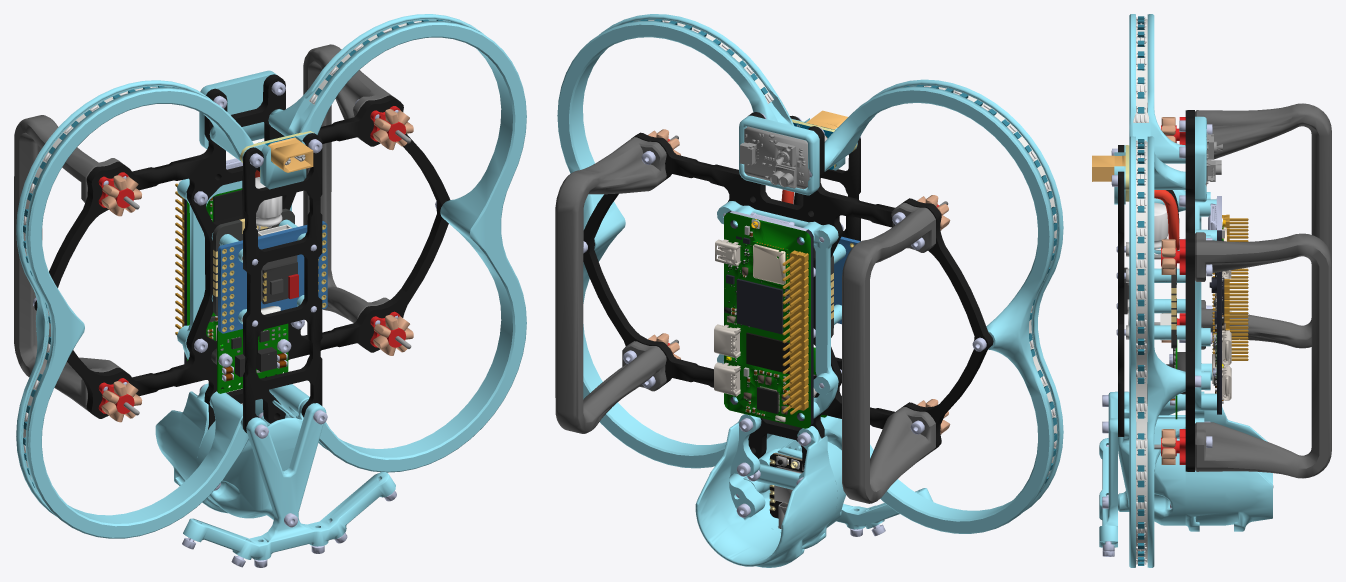
File: obrik_three_rangefinders_30_clean.obj
3 renders of one model, left to right at view 1: azimuth 30°, elevation 25°; view 2: azimuth 150°, elevation 25°; view 3: azimuth 270°, elevation 25°, orthographic. The views are drawn at different scales.
Parts seen in each view (by area): view 1: obrik_three_rangefinders_30_clean; view 2: obrik_three_rangefinders_30_clean; view 3: obrik_three_rangefinders_30_clean.
Part boxes in pixels (x1,y1,x2,y2): obrik_three_rangefinders_30_clean: (14,14,526,567); obrik_three_rangefinders_30_clean: (555,14,1063,567); obrik_three_rangefinders_30_clean: (1092,14,1331,567).
Size of the model in its own units: 0.1699 by 0.1597 by 0.0767.
